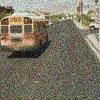buses: (0, 15, 51, 56)
